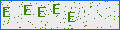E: (38, 7, 46, 17), (24, 5, 32, 15), (68, 12, 75, 22), (53, 4, 60, 14), (3, 7, 10, 17)
